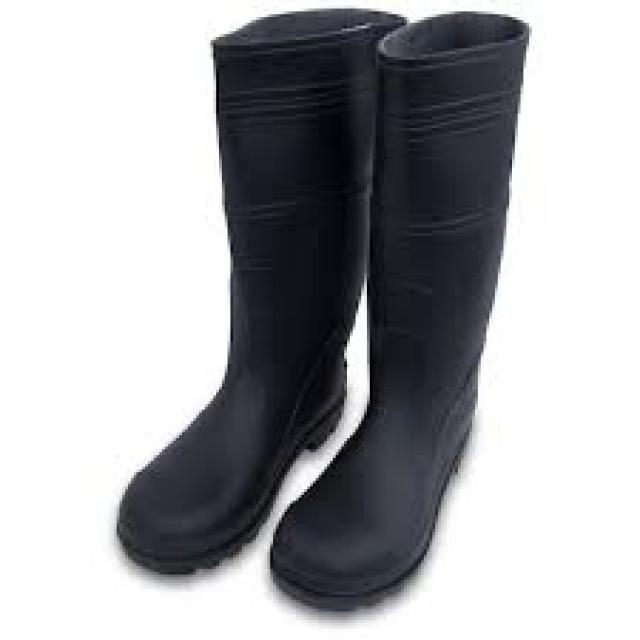shoes: (119, 11, 529, 608)
